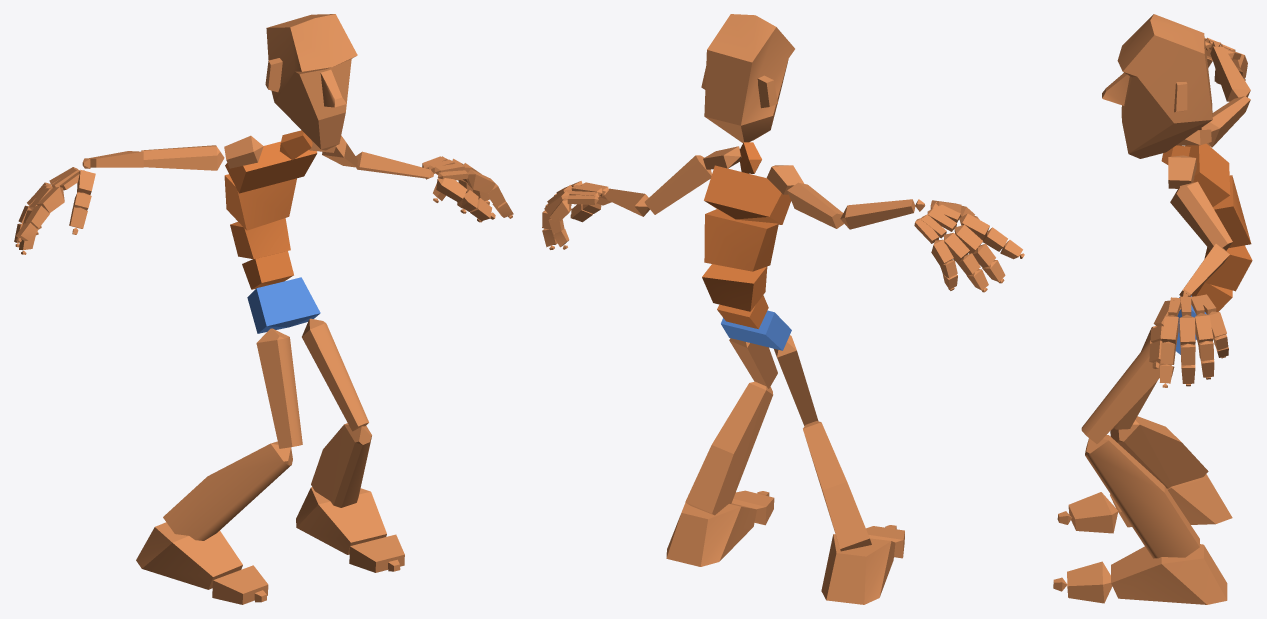
The model's file is personaje322.obj.
3 renders of one model, left to right at view 1: azimuth 30°, elevation 25°; view 2: azimuth 150°, elevation 25°; view 3: azimuth 270°, elevation 25°, orthographic. The views are drawn at different scales.
Visible parts, largest first — view 1: BOPED_Head, BOPED_R_leg, BOPED_R_foot, BOPED_R_foot01, BOPED_R_legup, BOPED_L_leg, BOPED_L_legup, Bone01, Bone04, Bone05, Bone03, BOPED_R_arm_upper (+7 smaller); view 2: BOPED_Head, BOPED_L_leg, BOPED_R_foot01, BOPED_R_foot, BOPED_R_leg, Bone04, Bone05, Bone03, BOPED_L_arm_upper, BOPED_R_legup, Bone01, BOPED_R_arm_fore (+7 smaller); view 3: BOPED_Head, BOPED_L_leg, BOPED_R_foot01, BOPED_R_leg, BOPED_L_legup, BOPED_R_foot, BOPED_L_arm_upper, Bone05, BOPED_R_foot_toe01, BOPED_R_foot_toe04, Bone04, Bone03 (+15 smaller).
Part boxes in pixels (x1,y1,x2,y2): BOPED_Head: [265, 14, 357, 150]; BOPED_R_leg: [163, 441, 292, 540]; BOPED_R_foot: [136, 522, 242, 589]; BOPED_R_foot01: [296, 487, 386, 554]; BOPED_R_legup: [256, 328, 302, 448]; BOPED_L_leg: [311, 423, 371, 507]; BOPED_L_legup: [302, 318, 368, 431]; Bone01: [247, 277, 320, 333]; Bone04: [224, 174, 296, 230]; Bone05: [225, 141, 317, 193]; Bone03: [230, 218, 290, 259]; BOPED_R_arm_upper: [141, 145, 224, 170]; BOPED_Head: [701, 14, 794, 142]; BOPED_L_leg: [685, 381, 773, 515]; BOPED_R_foot01: [666, 502, 756, 566]; BOPED_R_foot: [821, 534, 895, 604]; BOPED_R_leg: [803, 421, 871, 551]; Bone04: [704, 209, 778, 271]; Bone05: [704, 165, 790, 224]; Bone03: [702, 264, 767, 311]; BOPED_L_arm_upper: [644, 155, 711, 214]; BOPED_R_legup: [774, 335, 818, 425]; Bone01: [721, 310, 791, 350]; BOPED_R_arm_fore: [840, 199, 915, 229]; BOPED_Head: [1102, 14, 1212, 158]; BOPED_L_leg: [1085, 435, 1199, 558]; BOPED_R_foot01: [1111, 544, 1227, 604]; BOPED_R_leg: [1110, 416, 1208, 488]; BOPED_L_legup: [1081, 340, 1171, 443]; BOPED_R_foot: [1110, 474, 1232, 527]; BOPED_L_arm_upper: [1170, 181, 1232, 250]; Bone05: [1185, 143, 1230, 206]; BOPED_R_foot_toe01: [1068, 492, 1118, 533]; BOPED_R_foot_toe04: [1067, 561, 1112, 603]; Bone04: [1210, 175, 1251, 250]; Bone03: [1204, 245, 1252, 291].
Size of the model in its own units: 167 by 173 by 56.5.
